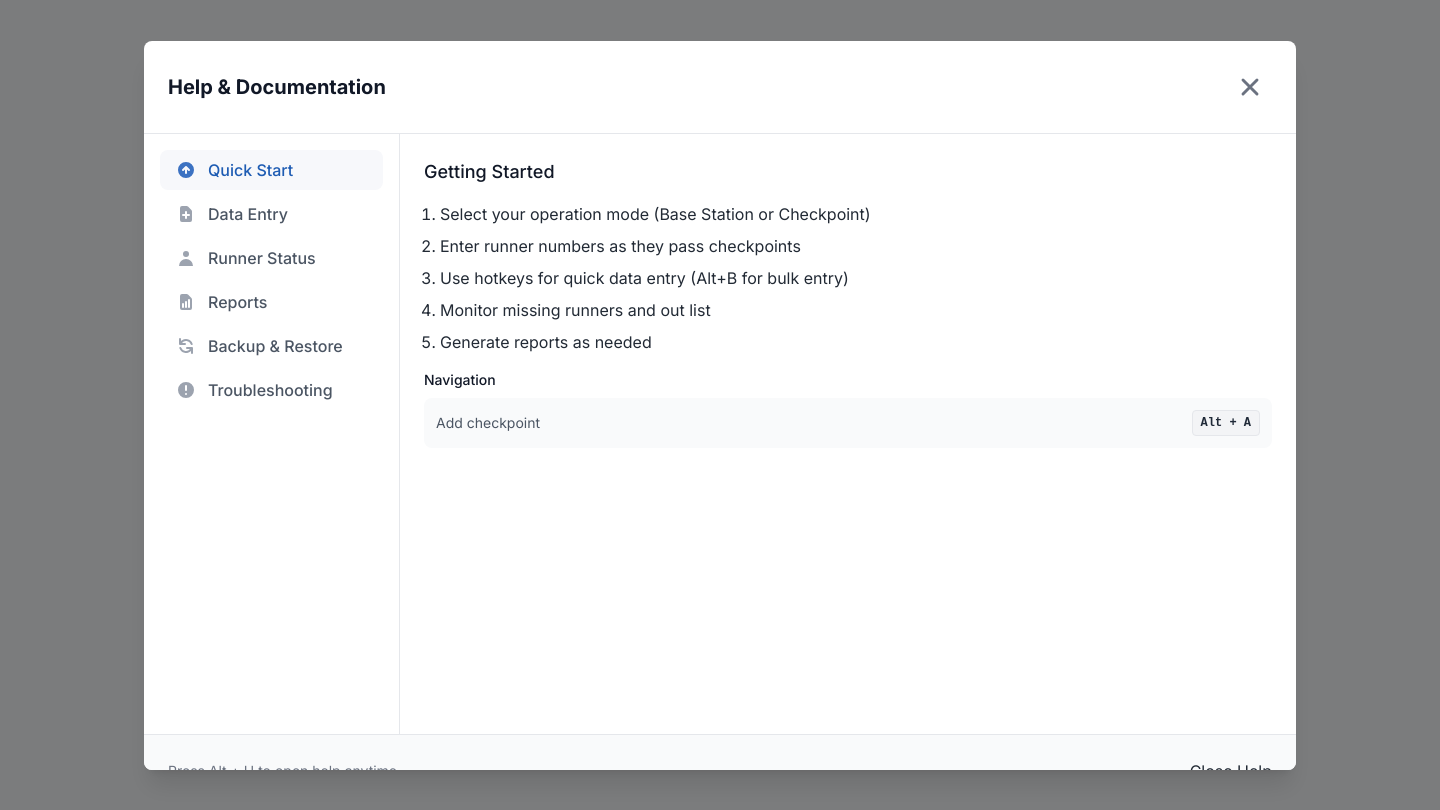
HelpDialog › switches between sections
Click Data Entry section
Click the button "Data Entry" at (272, 214), box [160,194,383,234]
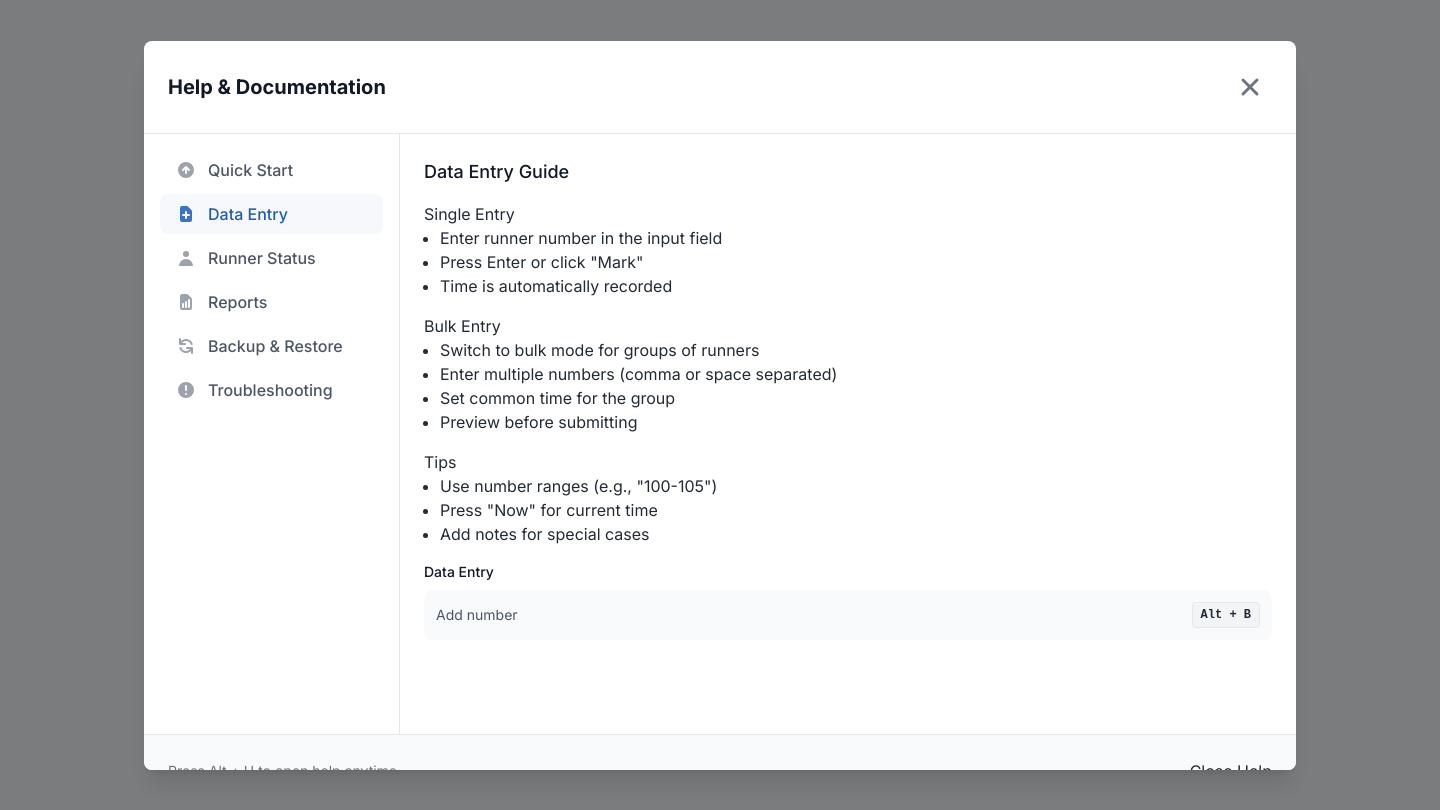
Now the heading "Single Entry" is shown, box [424,204,515,224]
Click Reports section
Click the button "Reports" at (272, 302), box [160,282,383,322]
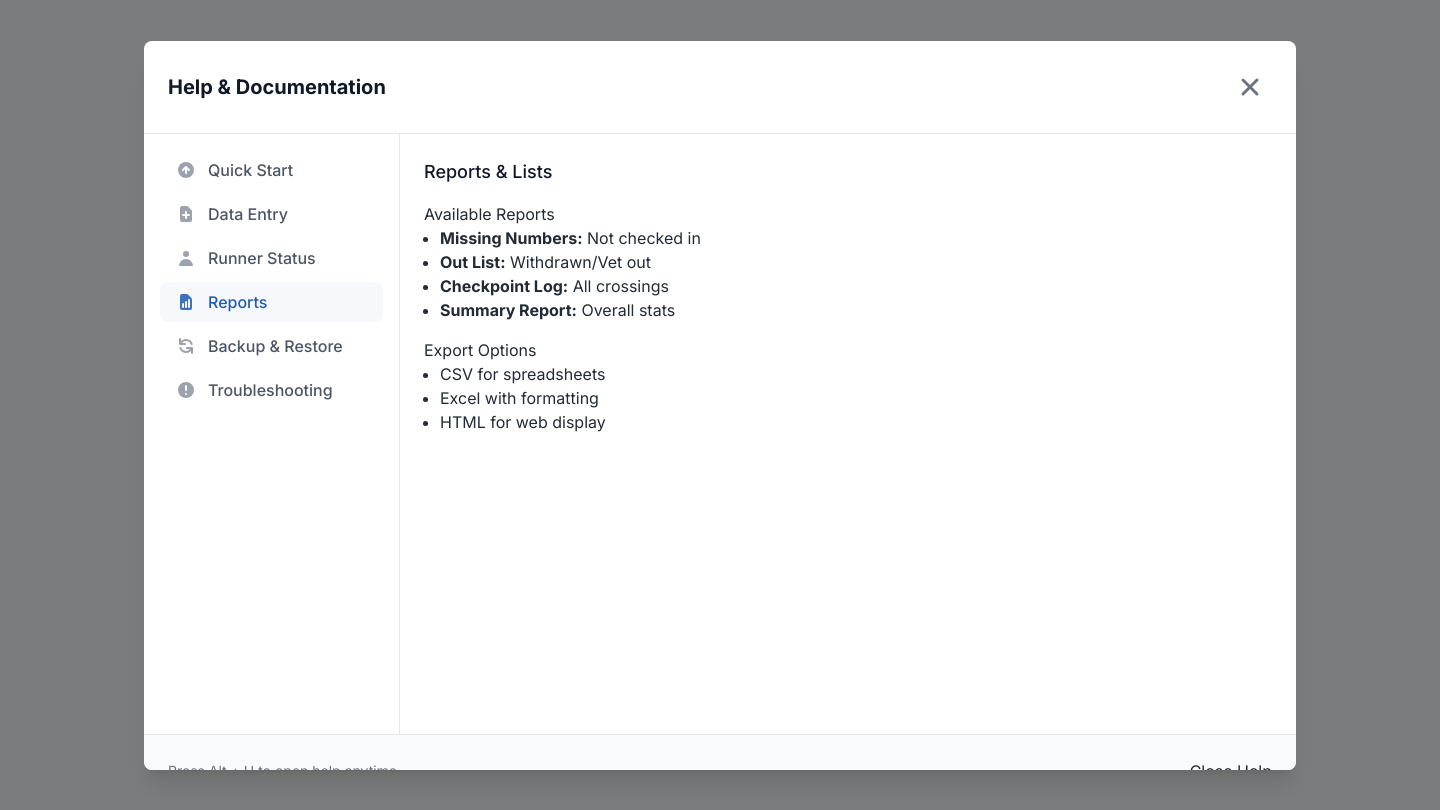
Now the heading "Available Reports" is shown, box [424,204,555,224]
